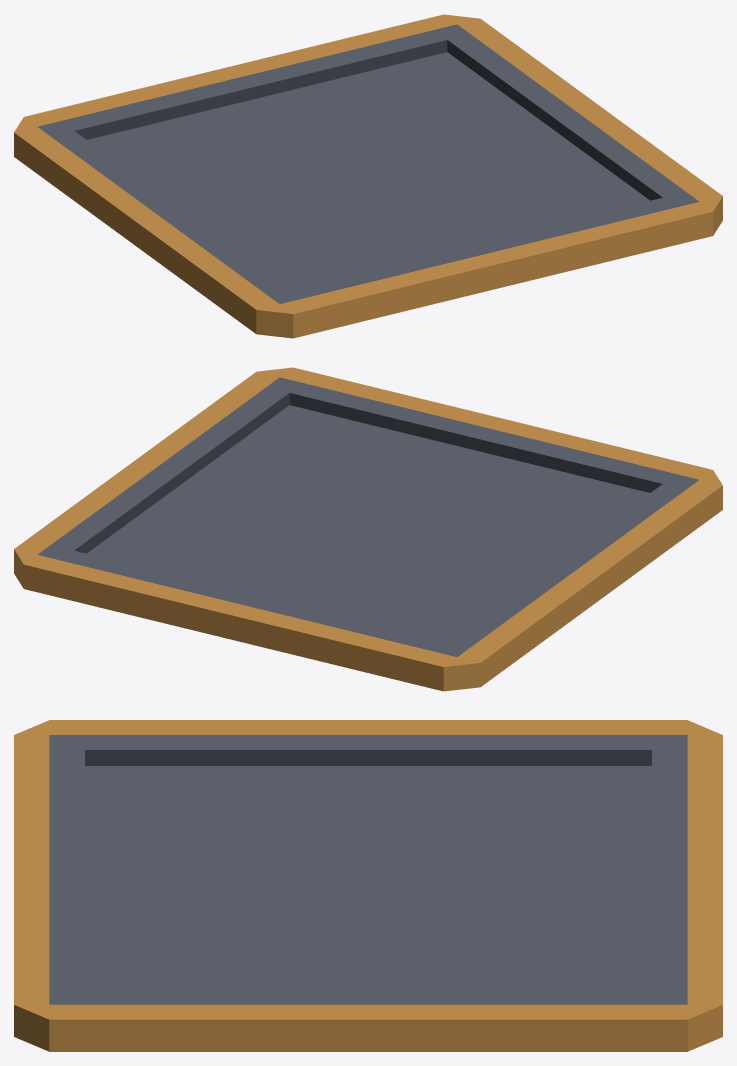
The model's file is station_platform.glb.
3 renders of one model, top to bottom at view 1: azimuth 30°, elevation 25°; view 2: azimuth 150°, elevation 25°; view 3: azimuth 270°, elevation 25°, orthographic. The views are drawn at different scales.
Visible parts, largest first — view 1: body; view 2: body; view 3: body.
Boxes of the visible parts, x1,y1,x2,y2 form: body: [14, 14, 722, 338]; body: [14, 367, 722, 691]; body: [14, 720, 722, 1051].
Size of the model in its own units: 2 by 0.1 by 2.
